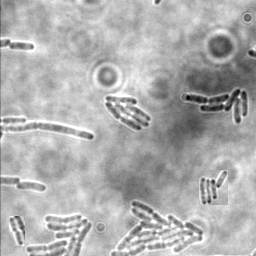Dividing: (1, 123, 95, 142), (9, 216, 25, 246), (8, 41, 35, 52)
Microcolony: (109, 200, 205, 255), (25, 212, 94, 255), (184, 89, 248, 126), (103, 96, 150, 132), (199, 170, 228, 205), (16, 182, 48, 193)
